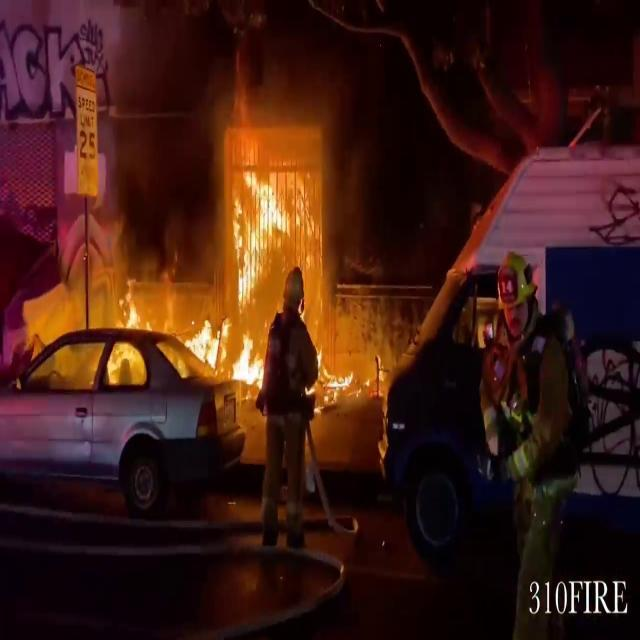Fire: (191, 148, 309, 390), (189, 301, 266, 390)
Smoke: (89, 0, 360, 284)
